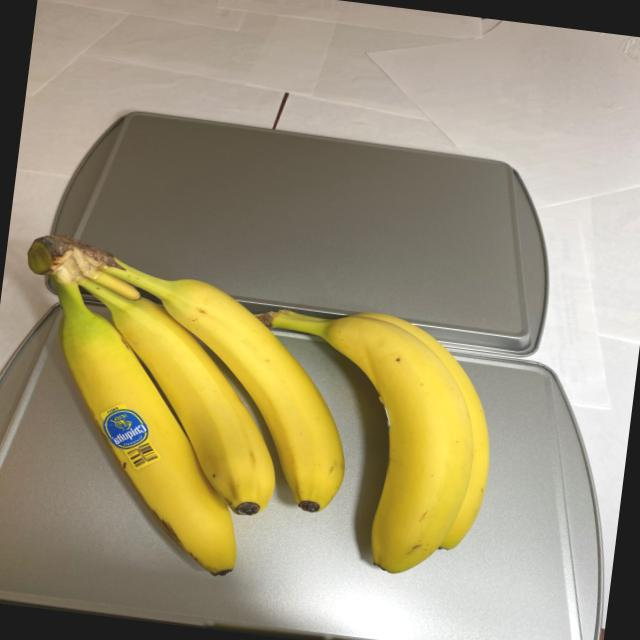banana: (0, 230, 517, 611)
